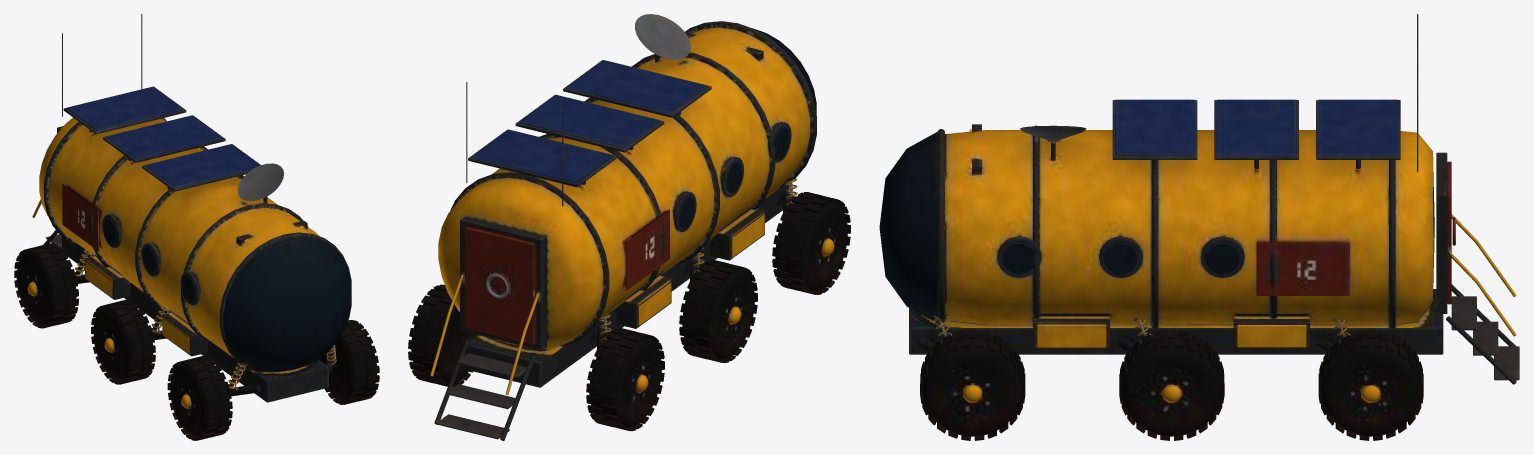
Rendered from rover.glb.
The picture shows the model from 3 angles, left to right: view 1: azimuth 30°, elevation 25°; view 2: azimuth 150°, elevation 25°; view 3: azimuth 270°, elevation 25°; orthographic projection. The views are drawn at different scales.
Parts seen in each view (by area): view 1: rover; view 2: rover; view 3: rover.
Part boxes in pixels (x1=…): rover: x1=14, y1=14, x2=379, y2=440; rover: x1=408, y1=14, x2=850, y2=440; rover: x1=879, y1=14, x2=1519, y2=440.
Bounding box in the file's own units: 3.21 × 4.52 × 7.55.
2 materials, 2 textured.
